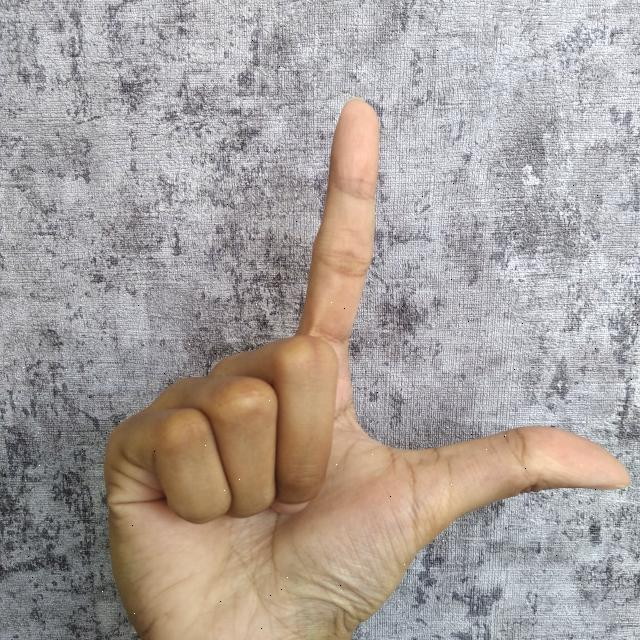L: (97, 95, 640, 640)
